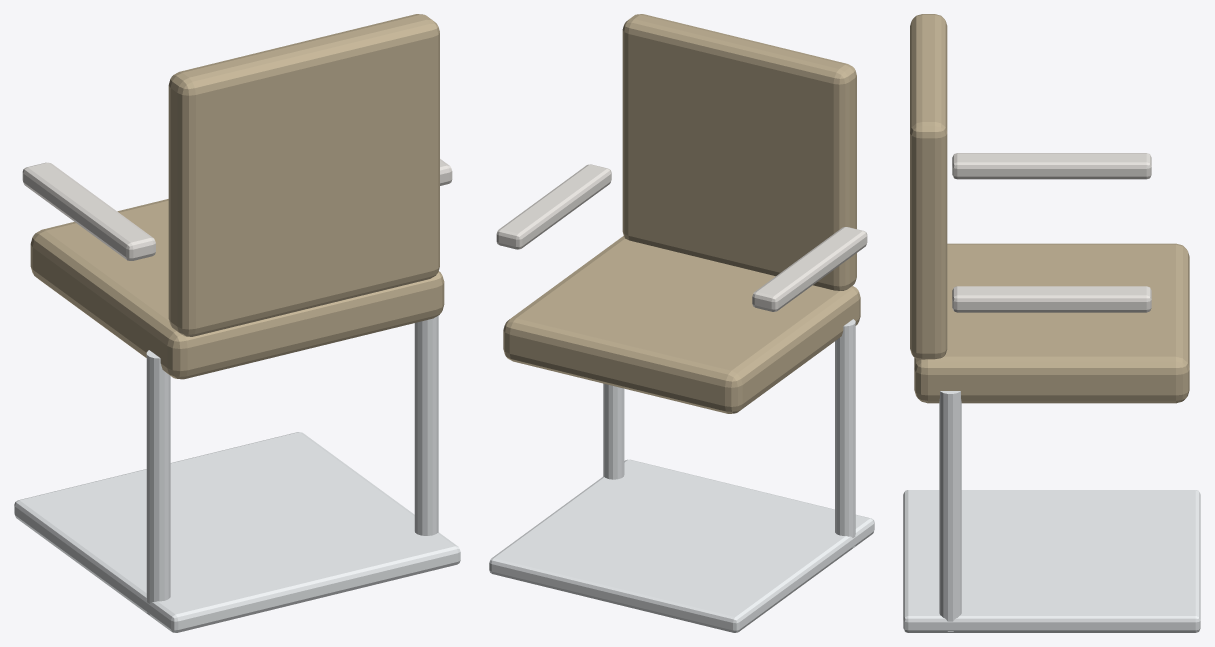
Rendered from isometric_modern_office_kit_10.glb.
3 views of the same model, side by side, from view 1: azimuth 30°, elevation 25°; view 2: azimuth 150°, elevation 25°; view 3: azimuth 270°, elevation 25° (orthographic). The views are drawn at different scales.
Parts seen in each view (by area): view 1: Cube; view 2: Cube; view 3: Cube.
Boxes of the visible parts, bbox=[...] form: Cube: bbox=[14, 14, 460, 632]; Cube: bbox=[489, 14, 874, 632]; Cube: bbox=[903, 14, 1200, 632].
Bounding box in the file's own units: 0.554 × 0.885 × 0.4756.
